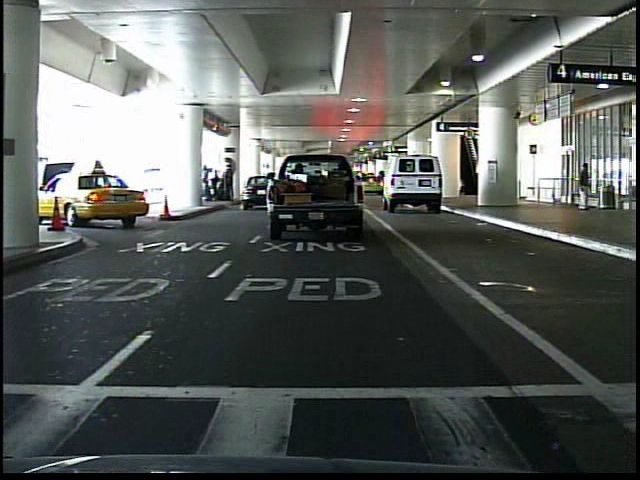person: (573, 162, 594, 214)
